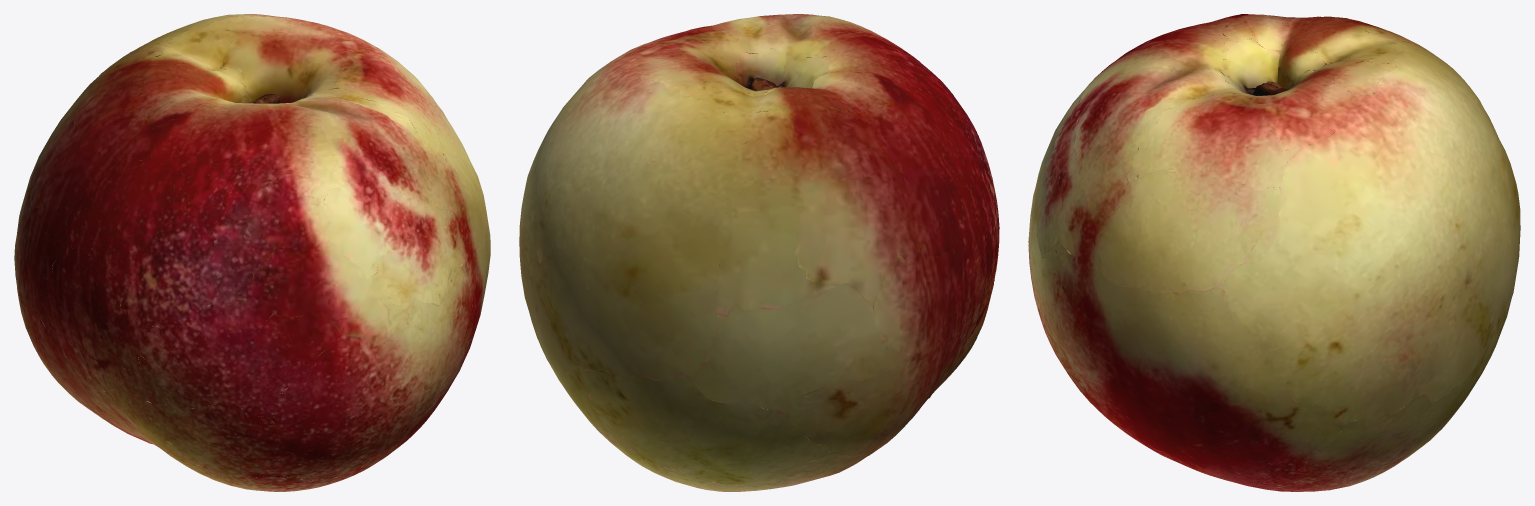
The model's file is peach.glb.
3 views of the same model, side by side, from view 1: azimuth 30°, elevation 25°; view 2: azimuth 150°, elevation 25°; view 3: azimuth 270°, elevation 25° (orthographic). The views are drawn at different scales.
Parts seen in each view (by area): view 1: Object_0; view 2: Object_0; view 3: Object_0.
Boxes of the visible parts, x1=… form: Object_0: x1=14, y1=14, x2=490, y2=491; Object_0: x1=519, y1=14, x2=999, y2=491; Object_0: x1=1028, y1=14, x2=1520, y2=491.
Bounding box in the file's own units: 0.0732 × 0.0701 × 0.075.
Materials: 1 (1 with a texture image).
